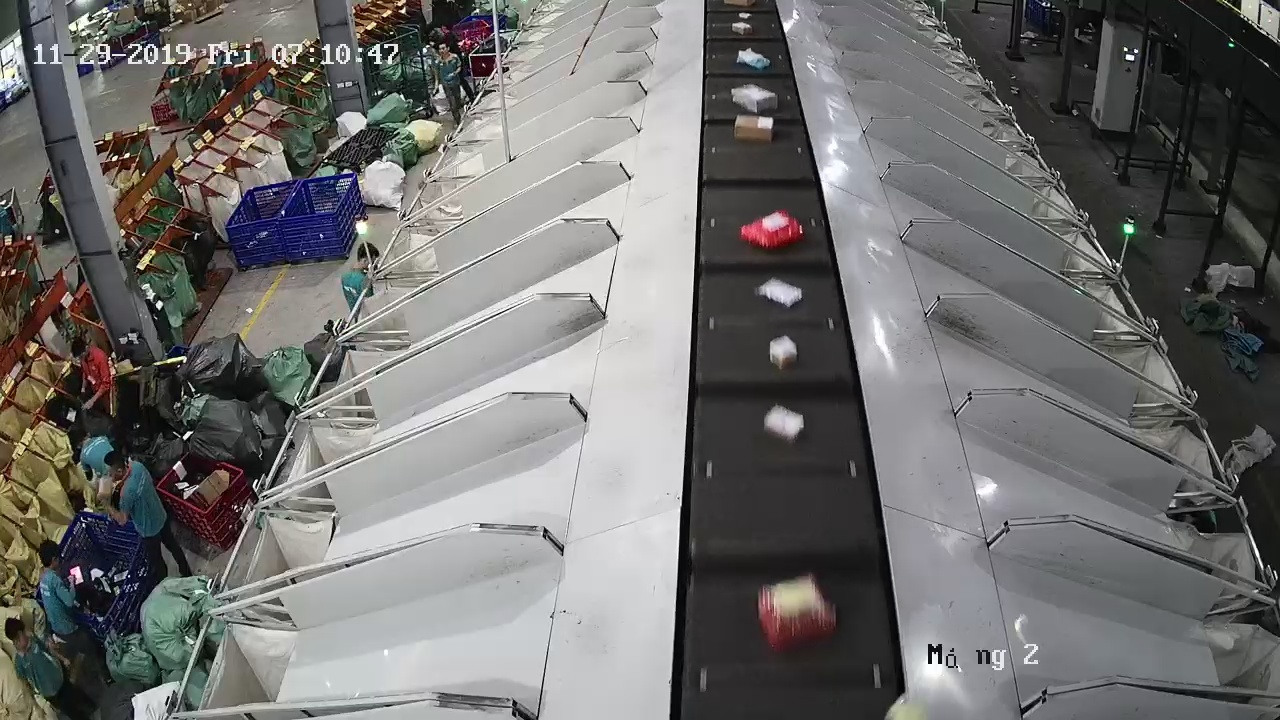parcel: (758, 573, 837, 654), (740, 208, 805, 250), (763, 404, 804, 446), (757, 277, 803, 309), (733, 114, 774, 143), (769, 335, 798, 370)
